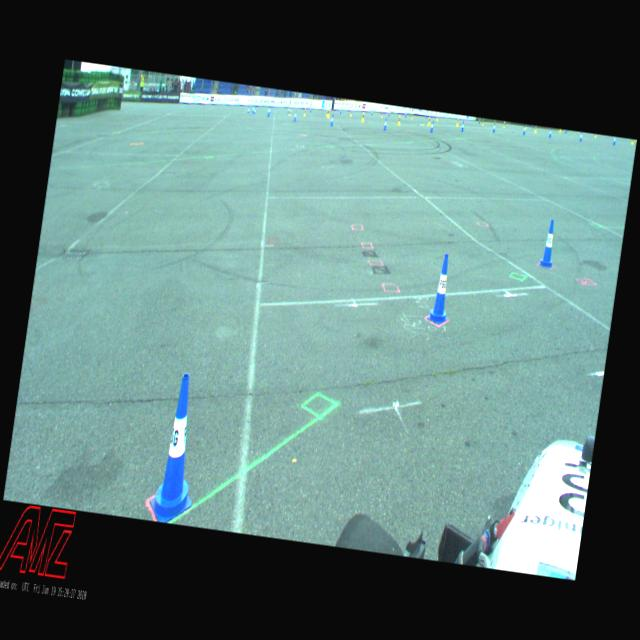blue_cone: (148, 371, 210, 526), (426, 252, 456, 326), (539, 219, 559, 269), (266, 106, 272, 118), (293, 110, 298, 122), (383, 118, 388, 130), (430, 120, 434, 132), (461, 120, 465, 132), (522, 124, 526, 136), (330, 115, 334, 126), (548, 128, 552, 138), (492, 123, 496, 133), (612, 136, 616, 146), (404, 109, 408, 118), (580, 132, 583, 142), (252, 105, 255, 114), (247, 105, 250, 114), (340, 106, 343, 115), (287, 106, 290, 114), (371, 108, 374, 116), (478, 118, 482, 124), (254, 104, 256, 114), (388, 110, 391, 116), (310, 105, 312, 113), (426, 112, 428, 119)
yellow_cone: (361, 112, 365, 122), (398, 116, 402, 126), (456, 118, 460, 128), (428, 116, 432, 125), (534, 125, 538, 133), (303, 108, 306, 117), (411, 112, 414, 120), (524, 124, 528, 130), (328, 107, 330, 118), (350, 109, 352, 118), (482, 118, 484, 127), (503, 122, 506, 128), (326, 108, 328, 116), (290, 108, 292, 116), (436, 115, 438, 122), (288, 108, 290, 115), (381, 112, 383, 118)
